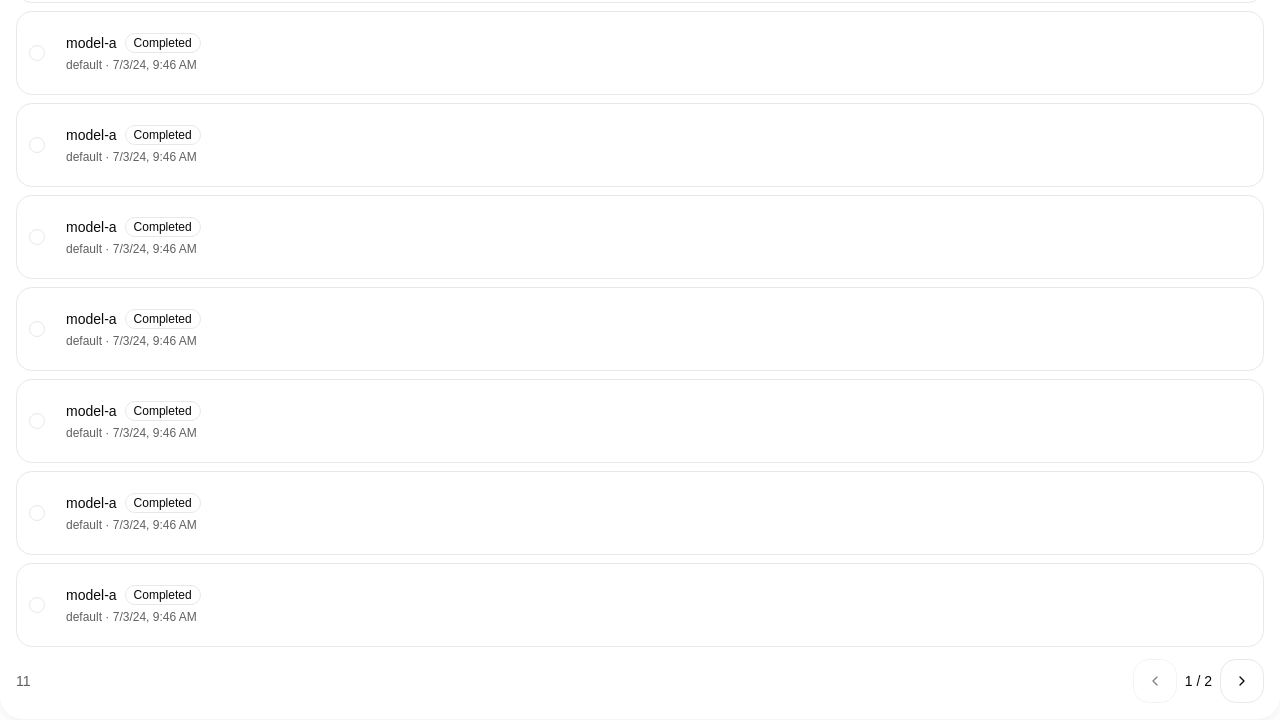
Test case: 历史超过一页时可翻页查看，按模型筛选后回到第一页
(page scrolled)
Click the button named "Go to next page": (1242, 681) [1220,659,1264,703]
(page scrolled)
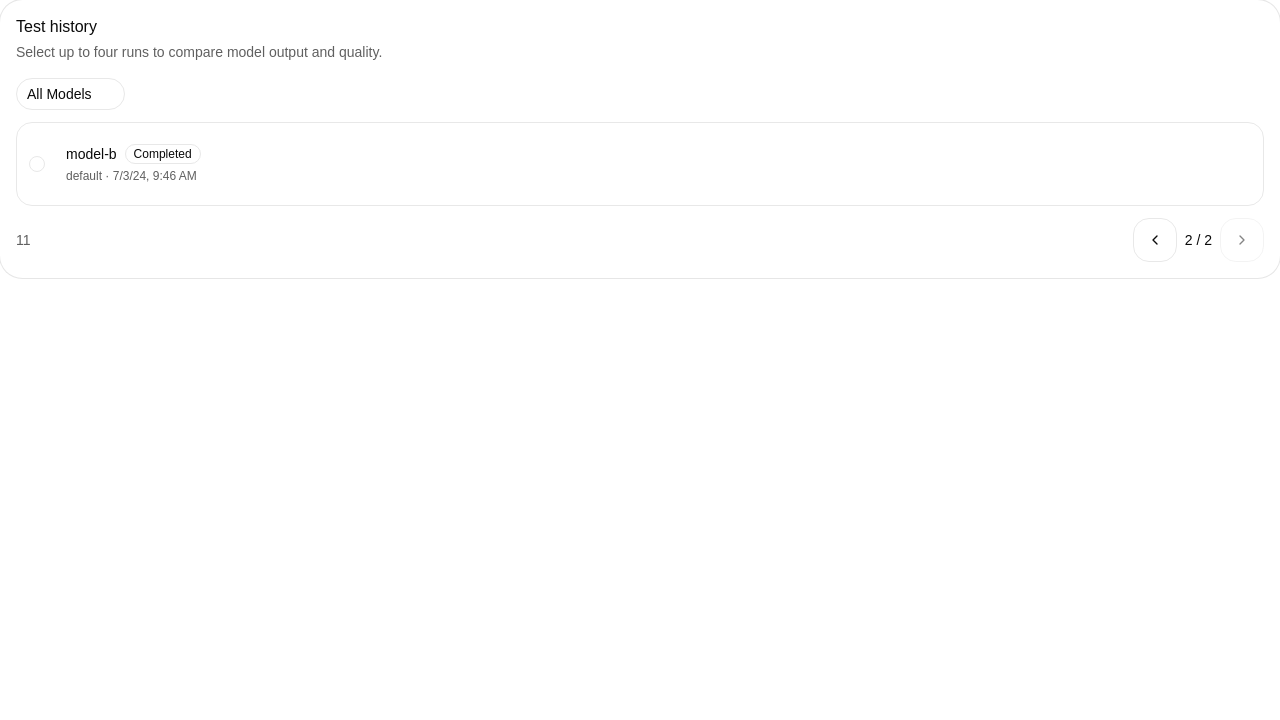
Expected: the button "model-b Completed default · 7/3/24, 9:46 AM" is shown, [57,135,1251,193]
Select "model-a" in the dropdown named "Filter by model": (70, 94) [16,78,125,110]
(page scrolled)
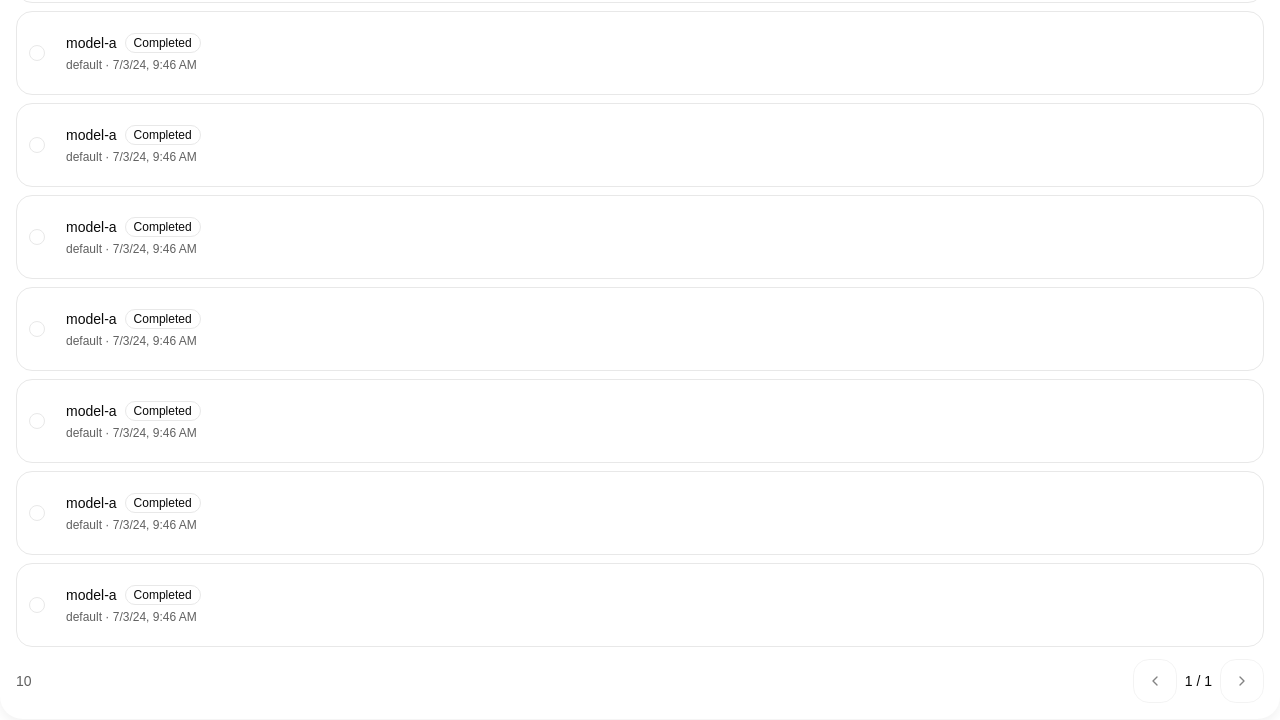
Expected: the button named "Go to previous page" is disabled, [1133,659,1177,703]
Expected: the number of checkboxes is 10
